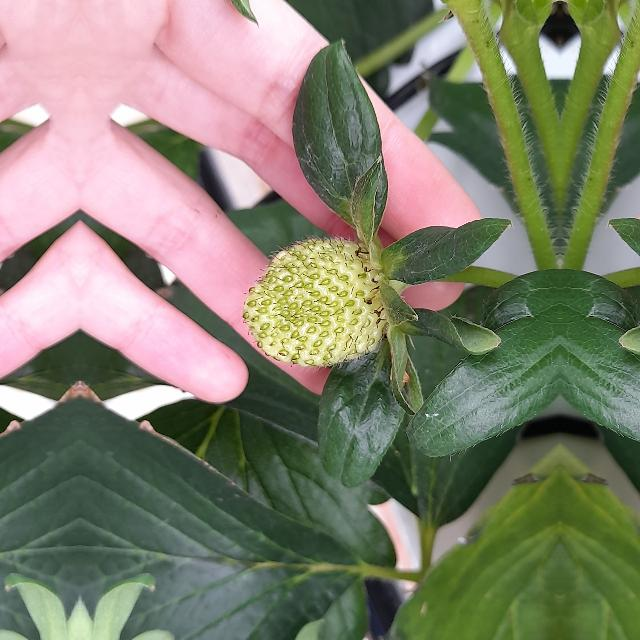Health_25: (242, 237, 386, 366)
